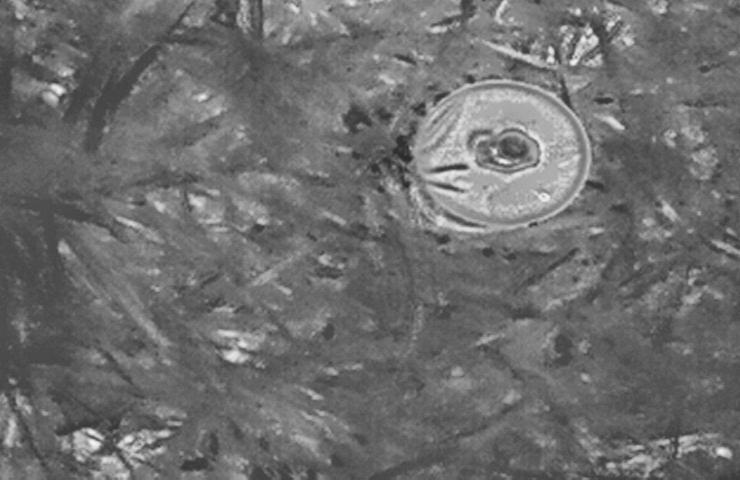landmines: (400, 72, 603, 242)
